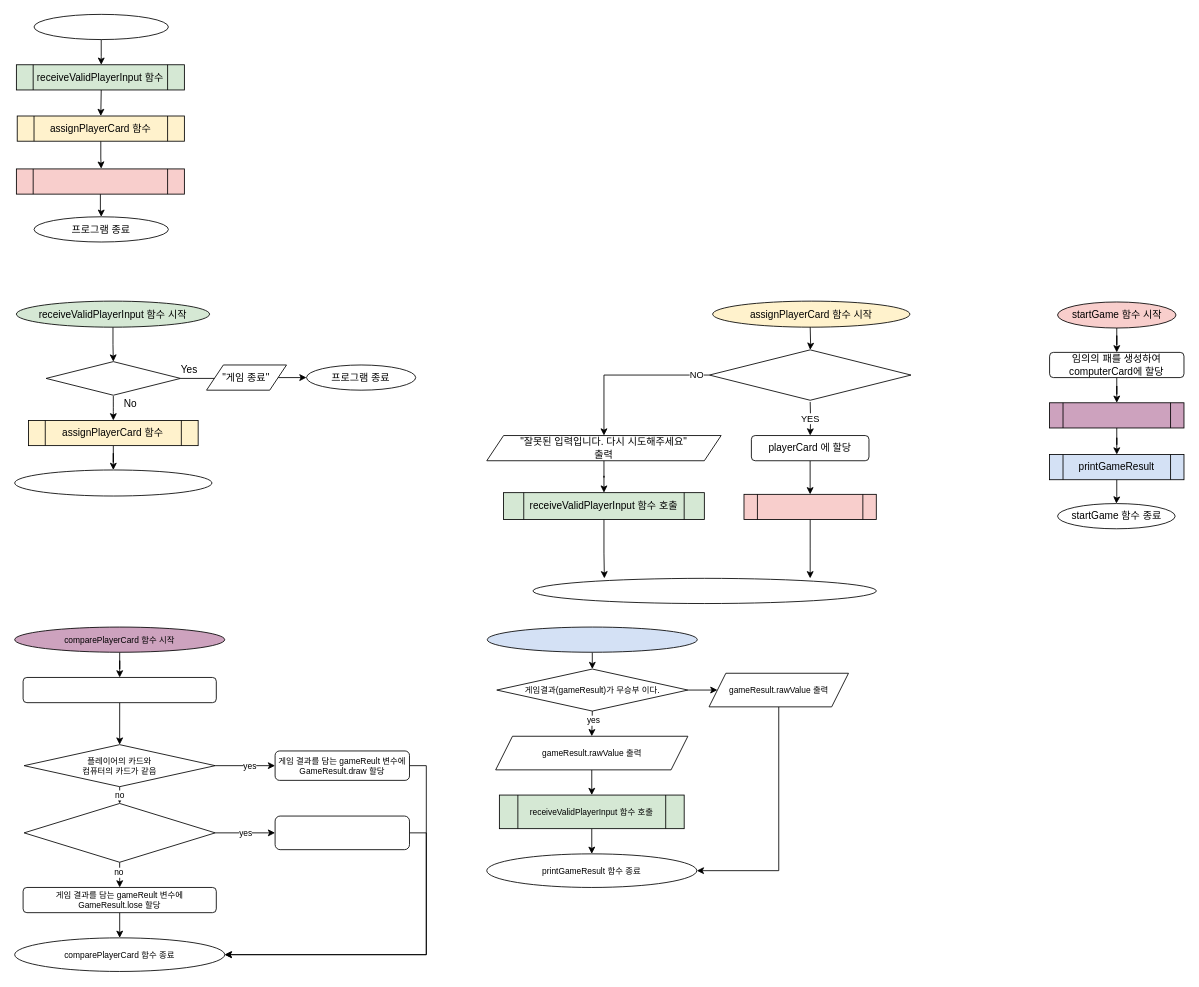
This 1199x987 diagram has some shape labels left out. The shapes that lost their labels are listed below. From the top down, each one's centre as x and y in pixels, then its label:
At point (100, 27): "프로그램 실행".
At point (100, 181): "startGame 함수".
At point (113, 378): "case input = 0".
At point (810, 374): "playerInputNumber가 정수 1,2,3인가?".
At point (1116, 415): "comparePlayerCard".
At point (113, 482): "receiveValidPlayerInput 함수 종료".
At point (809, 507): "startGame 함수 호출".
At point (704, 591): "assignPlayerCard 함수 종료".
At point (591, 639): "printGameResult 함수 시작".
At point (119, 690): "cardForPlayerToWin 변수 선언하여 플레이어가 이기기 위한 카드를 담는 값 할당".
At point (119, 832): "플레이어가 이기기 위한 상대의 카드와 컴퓨터의 카드가 같음".
At point (342, 832): "게임 결과를 담는 gameReult 변수에 GameResult.win 할당".
